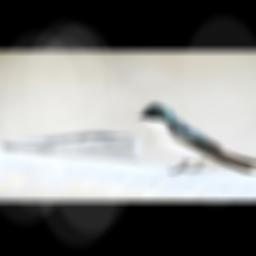Swallow: (133, 102, 256, 176)
